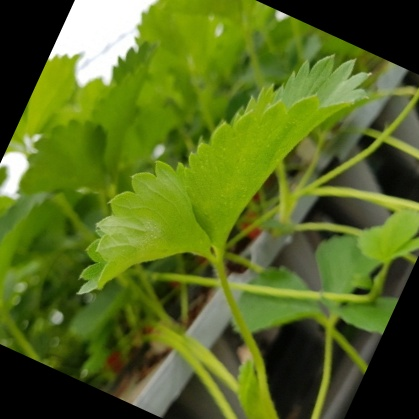Powdery_Leaf: (113, 177, 231, 341)
